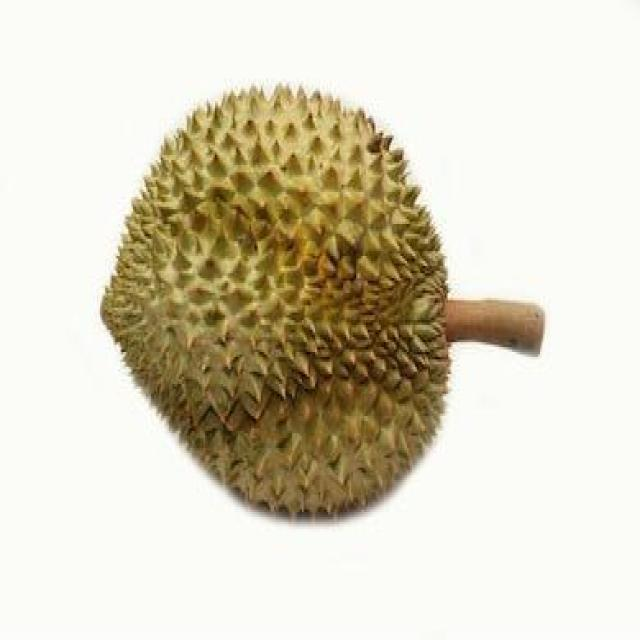mature: (102, 86, 449, 513)
